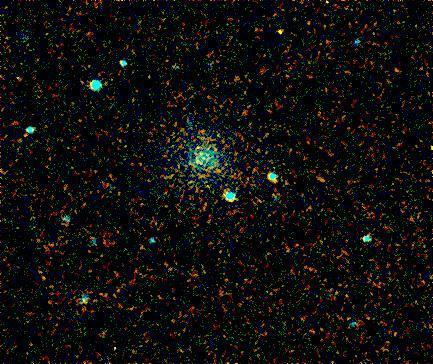star: (270, 15, 300, 45)
